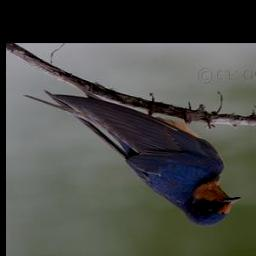Swallow: (22, 89, 242, 229)
